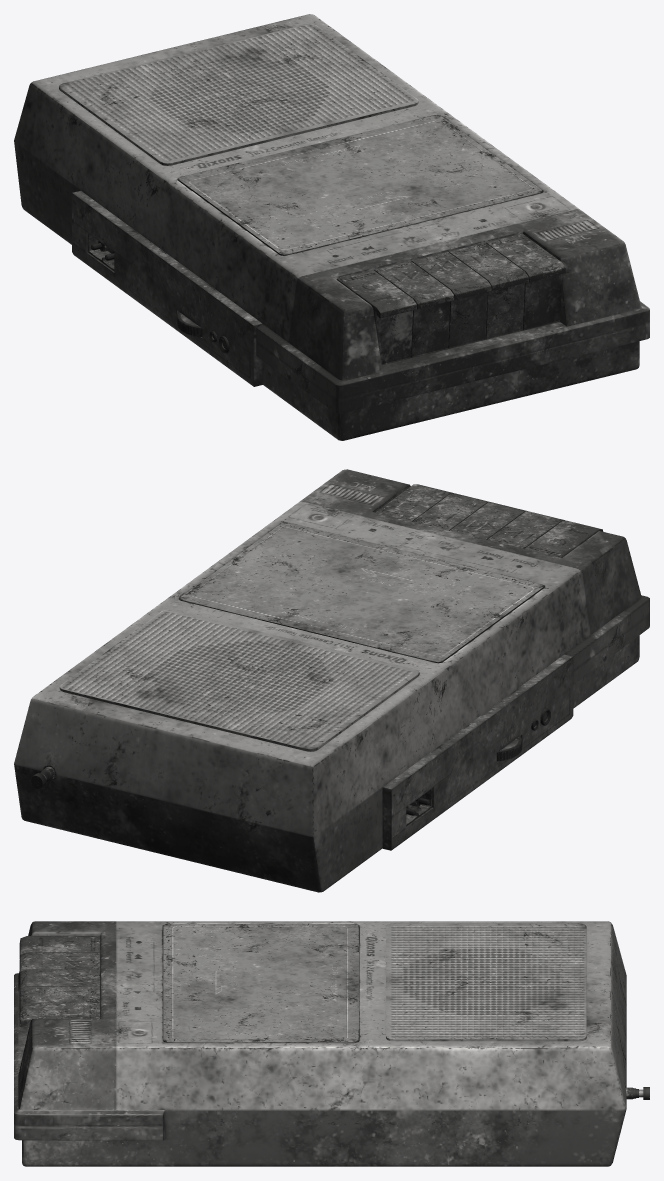
The model's file is cassette_player.fbx.
The picture shows the model from 3 angles, top to bottom: view 1: azimuth 30°, elevation 25°; view 2: azimuth 150°, elevation 25°; view 3: azimuth 270°, elevation 25°; orthographic projection. The views are drawn at different scales.
Parts seen in each view (by area): view 1: cassette_player; view 2: cassette_player; view 3: cassette_player.
Part boxes in pixels (box(x1,y1,x2,y2)): cassette_player: box(14, 14, 649, 440); cassette_player: box(14, 469, 649, 892); cassette_player: box(14, 921, 649, 1166).
Size of the model in its own units: 12.95 by 4.89 by 23.68.
